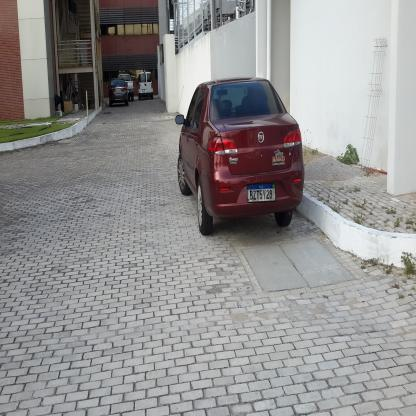PlacaM: (247, 183, 276, 203)
